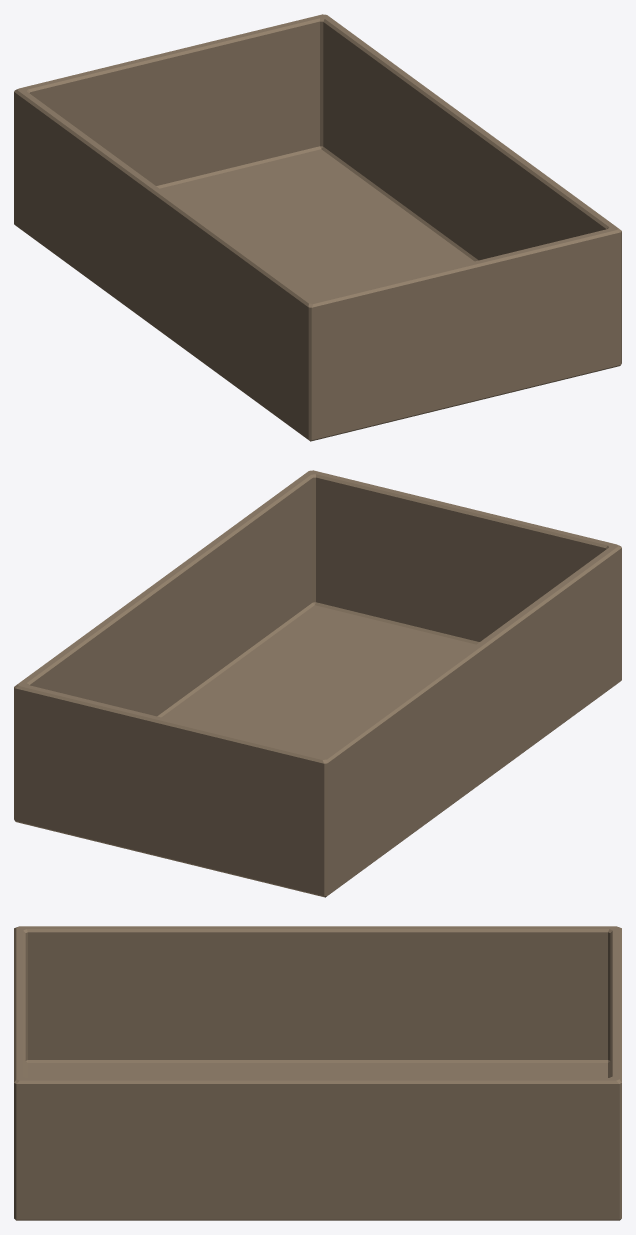
3 renders of one model, top to bottom at view 1: azimuth 30°, elevation 25°; view 2: azimuth 150°, elevation 25°; view 3: azimuth 270°, elevation 25°, orthographic. The views are drawn at different scales.
Visible parts, largest first — view 1: Cube; view 2: Cube; view 3: Cube.
Part boxes in pixels (bbox=[...]): Cube: bbox=[14, 14, 621, 441]; Cube: bbox=[14, 470, 621, 897]; Cube: bbox=[14, 926, 621, 1220].
Size of the model in its own units: 122 by 50.84 by 200.
